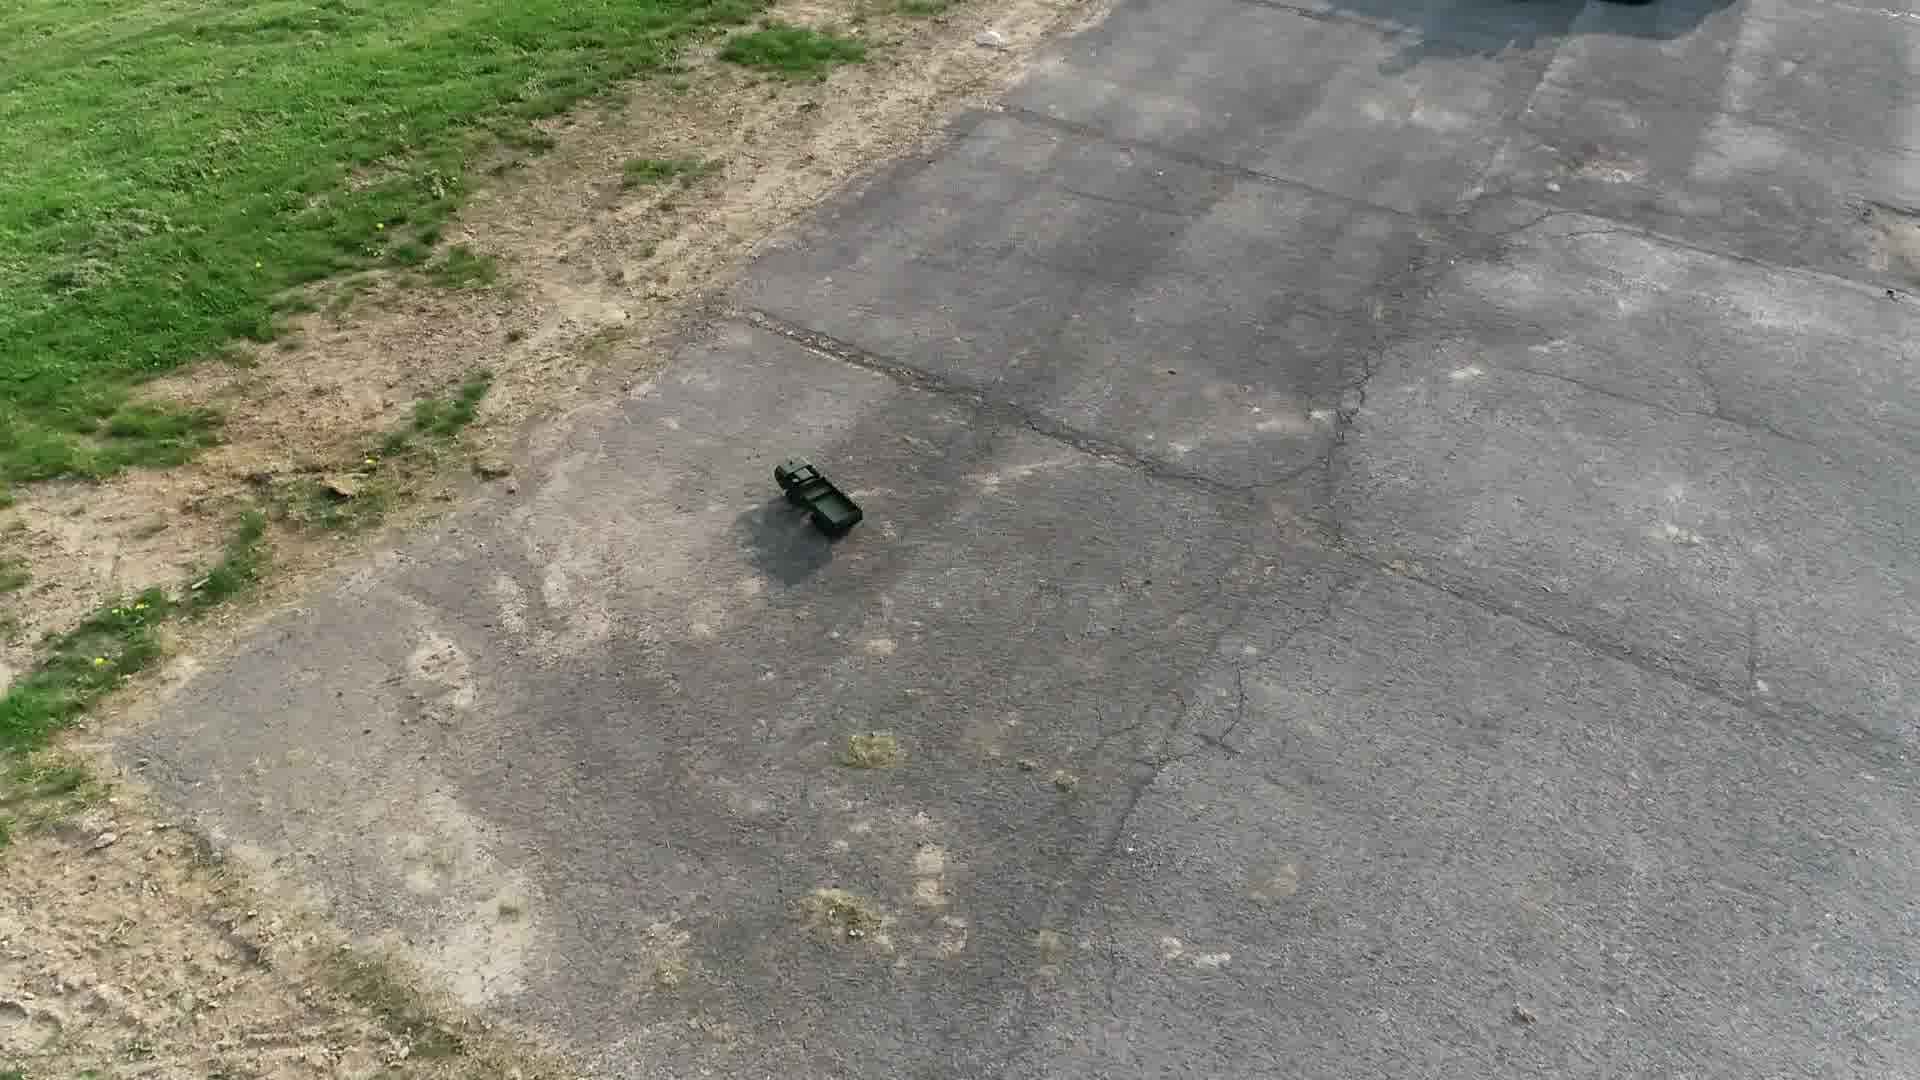transporter9: (769, 454, 866, 545)
